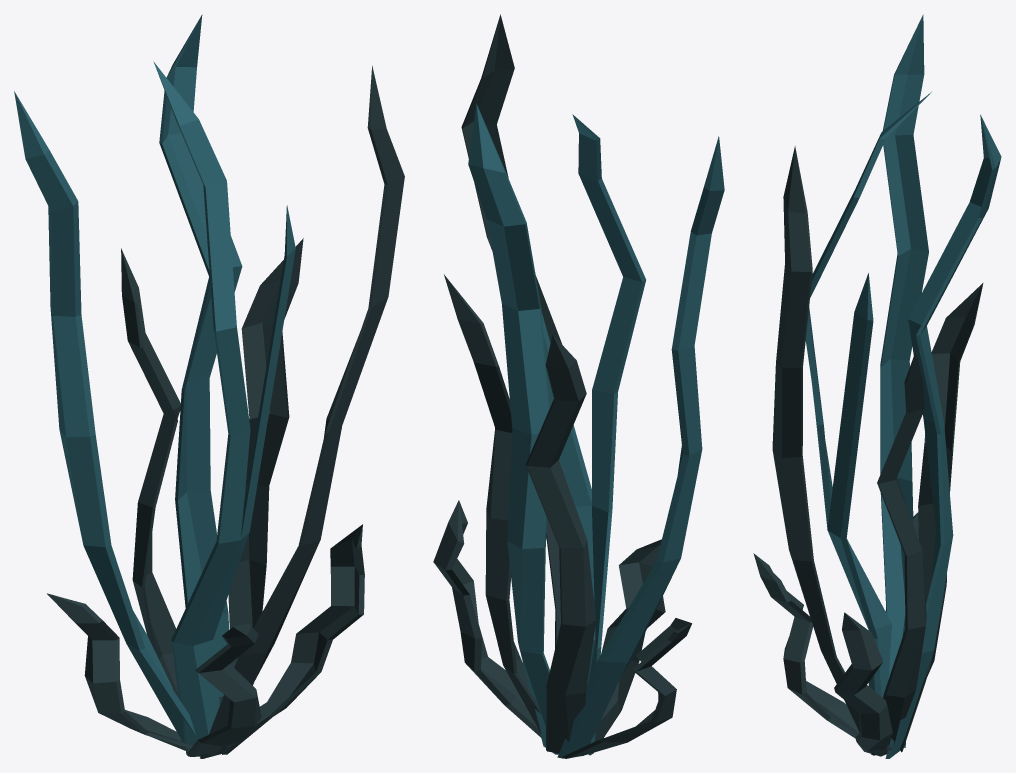
Rendered from Hierva Alta 4.fbx.
3 renders of one model, left to right at view 1: azimuth 30°, elevation 25°; view 2: azimuth 150°, elevation 25°; view 3: azimuth 270°, elevation 25°, orthographic. The views are drawn at different scales.
Parts seen in each view (by area): view 1: hierva alta; view 2: hierva alta; view 3: hierva alta.
Part boxes in pixels (<box>): hierva alta: <box>14,14,404,758</box>; hierva alta: <box>433,14,724,758</box>; hierva alta: <box>753,14,1001,758</box>.
Bounding box in the file's own units: 113 × 231 × 79.08.
